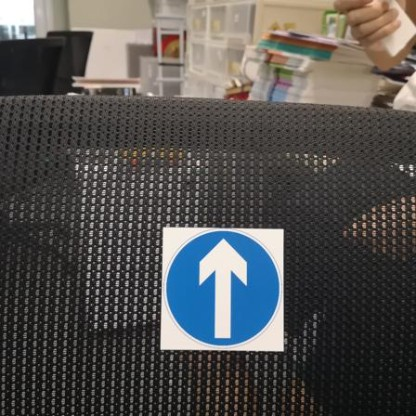forward: (160, 226, 286, 351)
